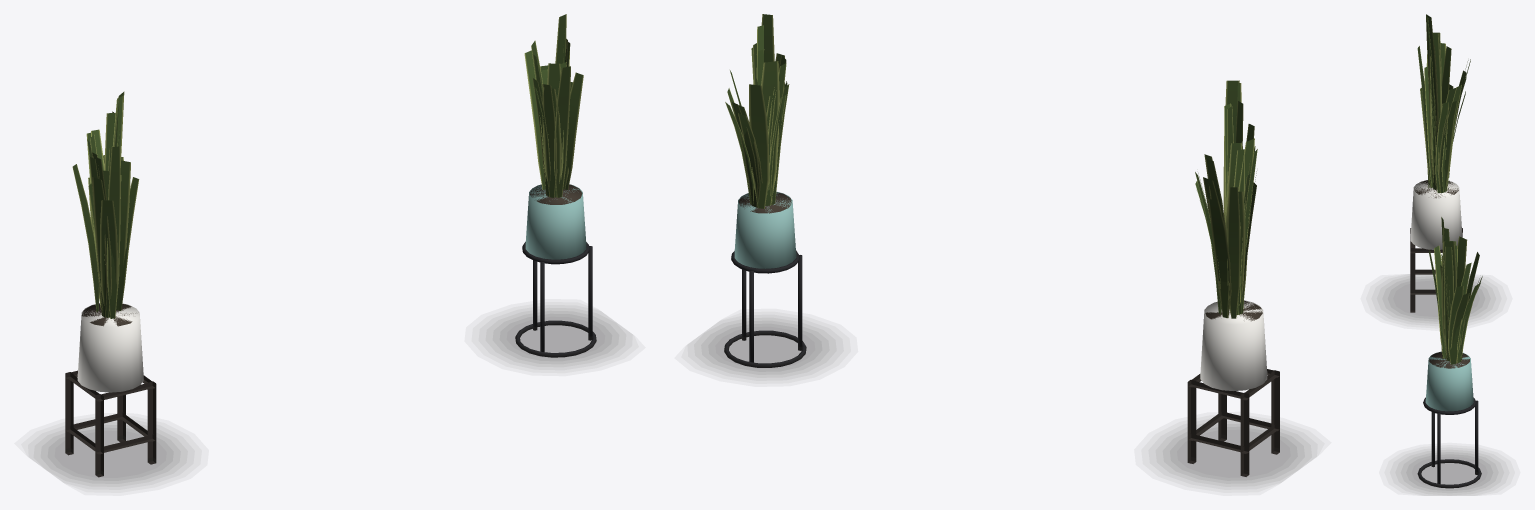
The model's file is hall2f_plants.glb.
3 views of the same model, side by side, from view 1: azimuth 30°, elevation 25°; view 2: azimuth 150°, elevation 25°; view 3: azimuth 270°, elevation 25° (orthographic). The views are drawn at different scales.
Parts seen in each view (by area): view 1: root; view 2: root; view 3: root.
Part boxes in pixels (x1=…): root: x1=28, y1=14, x2=632, y2=489; root: x1=688, y1=14, x2=1317, y2=489; root: x1=1372, y1=14, x2=1508, y2=495.
Size of what is drawn, in the model's own units: 2.43 by 1.47 by 0.742.
